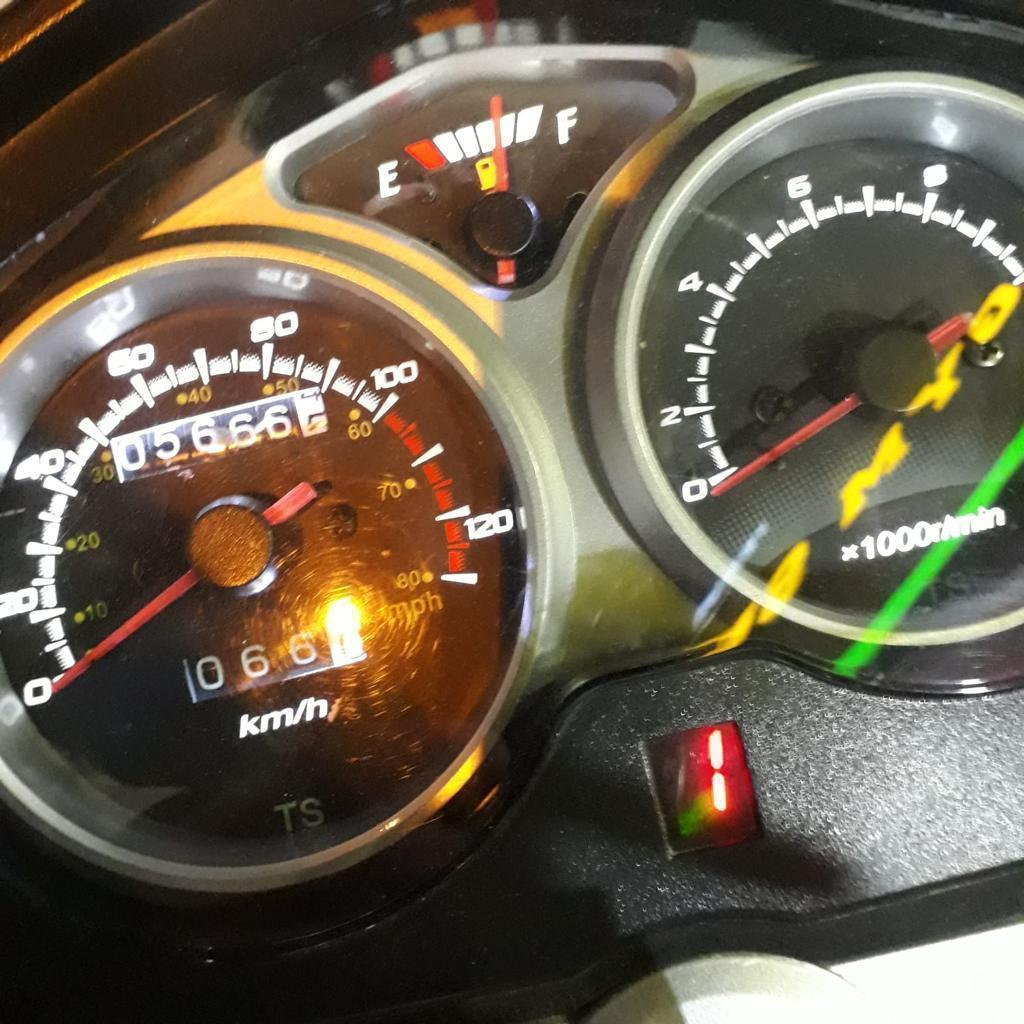0: (115, 432, 146, 472), (199, 385, 212, 403)
4: (188, 388, 198, 404)
5: (150, 422, 181, 463), (305, 407, 328, 441)
6: (188, 415, 220, 458), (225, 411, 256, 450), (263, 404, 292, 443)
odometer: (107, 385, 331, 486)
